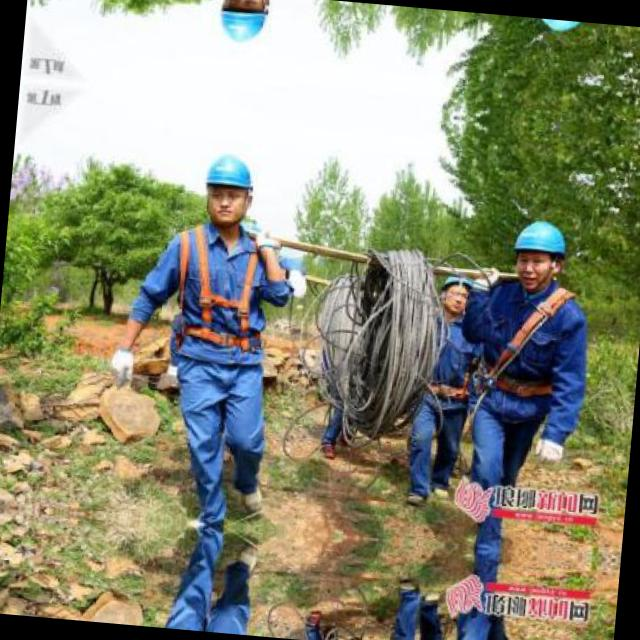helmet: (194, 145, 259, 231), (505, 212, 574, 290), (209, 0, 274, 51), (438, 268, 479, 314), (526, 17, 592, 41)
